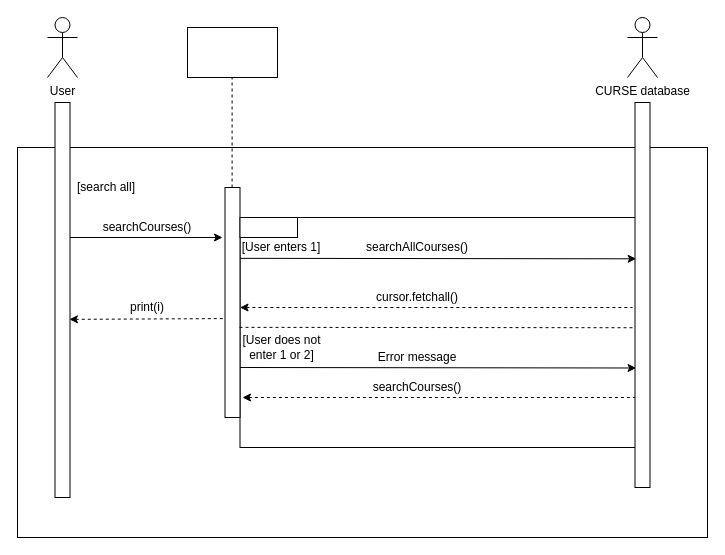
Image size: 725x555. Some labels were removed from this diagram. The shapes that lost their labels are listed below. From the top down, each one's centre as x and y in pixels, then its label:
At pixel 232 52: "Search window".
At pixel 268 227: "Alt".
